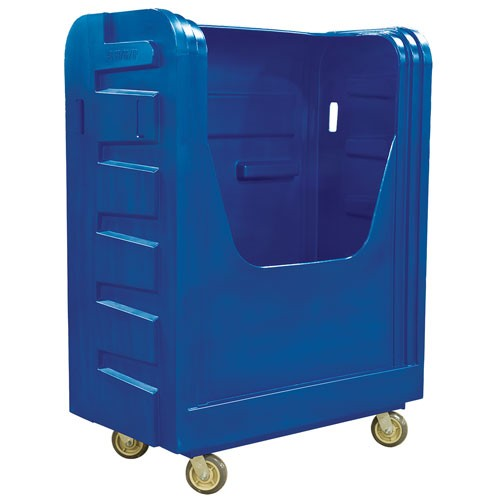Carts: (64, 7, 434, 493)
